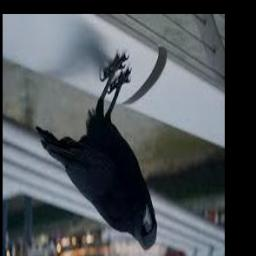Crow: (36, 53, 156, 250)
